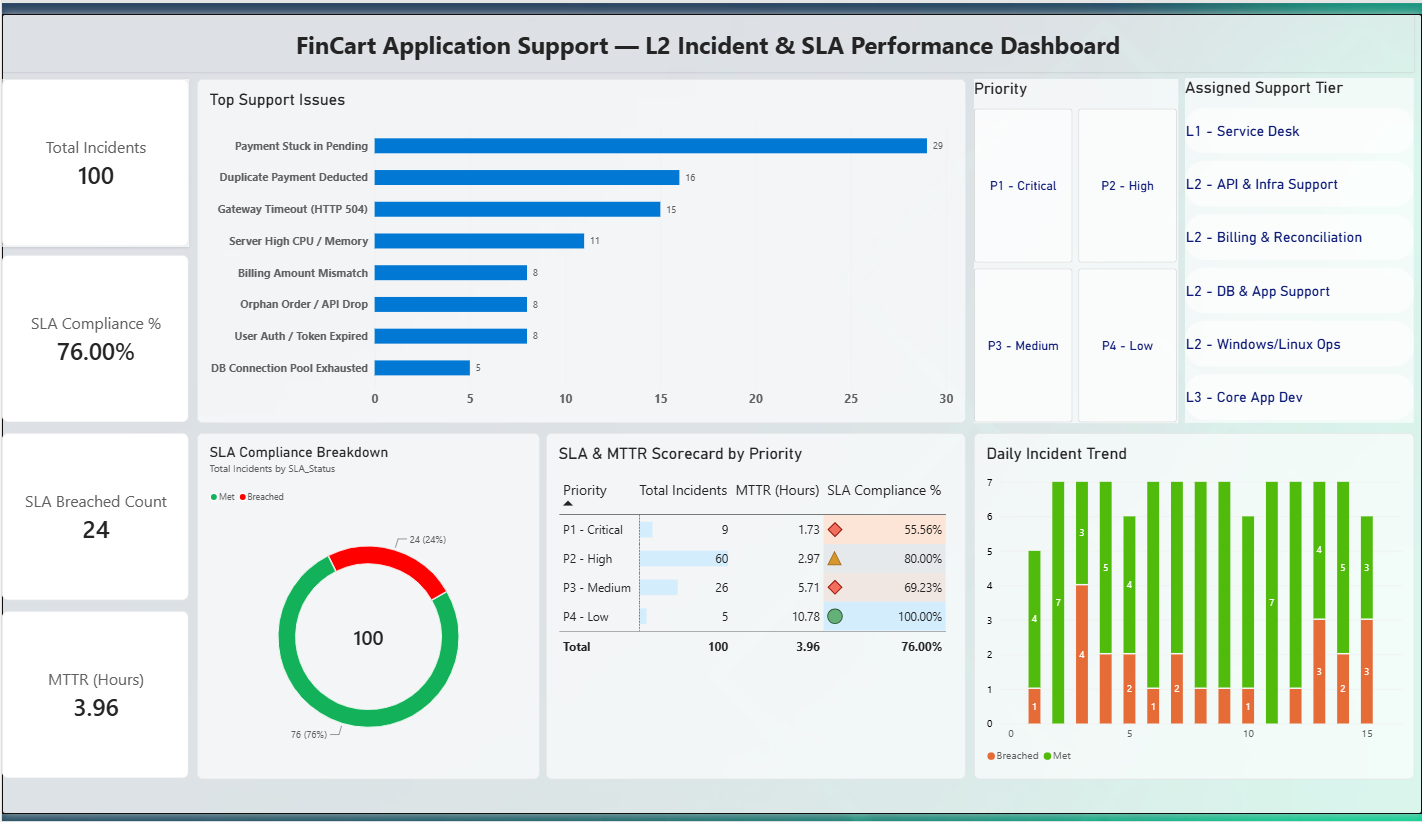

The page's visual inventory and layout, read from the dashboard file:
{"tool":"powerbi","page":{"name":"Page 1","canvas":[1920,1080],"ordinal":0},"visuals":[{"type":"cardVisual","fields":{"Data":["Tickets.Total Incidents"]},"box":[0,87.8,252.7,227],"z":0},{"type":"cardVisual","fields":{"Data":["Tickets.SLA Compliance %"]},"box":[0,325.6,252.7,227],"z":1000},{"type":"cardVisual","fields":{"Data":["Tickets.SLA Breached Count"]},"box":[0,566.1,252.7,227],"z":2000},{"type":"cardVisual","fields":{"Data":["Tickets.MTTR (Hours)"]},"box":[0,806.6,252.7,227],"z":3000},{"type":"barChart","title":"Top Support Issues","fields":{"Category":["Tickets.Issue_Category"],"Y":["Tickets.Total Incidents"]},"box":[263.5,87.8,1039,464.8],"z":4000},{"type":"donutChart","title":"SLA Compliance Breakdown","fields":{"Category":["Tickets.SLA_Status"],"Y":["Tickets.Total Incidents"]},"box":[264,566.1,463.4,467.5],"z":5000},{"type":"tableEx","title":"SLA & MTTR Scorecard by Priority","fields":{"Values":["Tickets.Priority","Tickets.Total Incidents","Tickets.MTTR (Hours)","Tickets.SLA Compliance %"]},"box":[735,566.1,567.5,467.5],"z":6000},{"type":"textbox","box":[0,0,1907.8,78.4],"z":7000},{"type":"advancedSlicerVisual","fields":{"Values":["Tickets.Priority"]},"box":[1313.3,87.8,275.6,464.8],"z":8000},{"type":"listSlicer","title":"Assigned Support Tier","fields":{"Values":["Tickets.Assigned_Support_Tier"]},"box":[1598.4,86.5,309.4,466.2],"z":9000},{"type":"columnChart","title":"Daily Incident Trend","fields":{"Category":["Tickets.Created_Timestamp.Variation.Date Hierarchy.Day"],"Y":["Tickets.Total Incidents"],"Series":["Tickets.SLA_Status"]},"box":[1313.3,566.1,594.5,467.5],"z":9001}]}

Visuals, with their boxes in screenshot pixels (x1, y1, x2, y2), scaled from the page's 1920x1080 canvas onto the 1422x822 screenshot:
cardVisual - Tickets.Total Incidents: {"x1": 0, "y1": 67, "x2": 187, "y2": 240}
cardVisual - Tickets.SLA Compliance %: {"x1": 0, "y1": 248, "x2": 187, "y2": 421}
cardVisual - Tickets.SLA Breached Count: {"x1": 0, "y1": 431, "x2": 187, "y2": 604}
cardVisual - Tickets.MTTR (Hours): {"x1": 0, "y1": 614, "x2": 187, "y2": 787}
"Top Support Issues" barChart: {"x1": 195, "y1": 67, "x2": 965, "y2": 421}
"SLA Compliance Breakdown" donutChart: {"x1": 196, "y1": 431, "x2": 539, "y2": 787}
"SLA & MTTR Scorecard by Priority" tableEx: {"x1": 544, "y1": 431, "x2": 965, "y2": 787}
textbox: {"x1": 0, "y1": 0, "x2": 1413, "y2": 60}
advancedSlicerVisual - Tickets.Priority: {"x1": 973, "y1": 67, "x2": 1177, "y2": 421}
"Assigned Support Tier" listSlicer: {"x1": 1184, "y1": 66, "x2": 1413, "y2": 421}
"Daily Incident Trend" columnChart: {"x1": 973, "y1": 431, "x2": 1413, "y2": 787}
